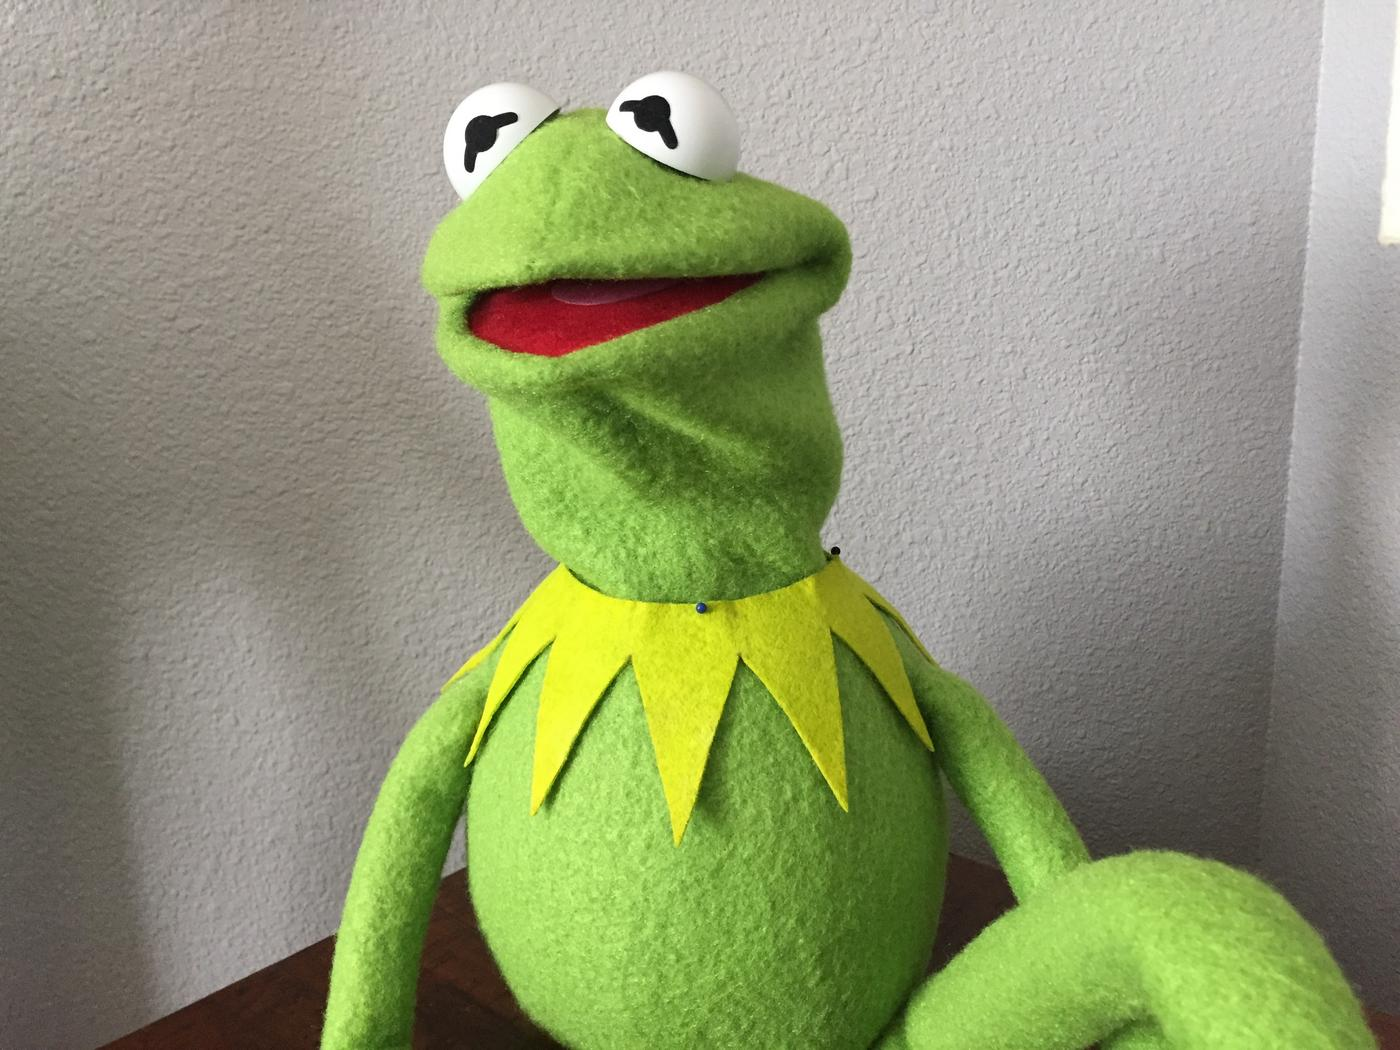kermit: (422, 64, 876, 594)
